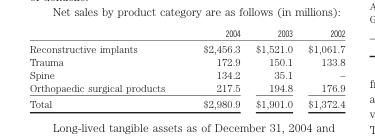table: (28, 28, 344, 109)
table column: (28, 28, 183, 109), (183, 28, 247, 109), (247, 28, 299, 109), (299, 28, 344, 109)
table column header: (28, 28, 344, 40)
table row: (28, 40, 344, 55), (28, 80, 344, 95), (28, 95, 344, 109), (28, 67, 344, 80), (28, 28, 344, 40), (28, 55, 344, 67)
